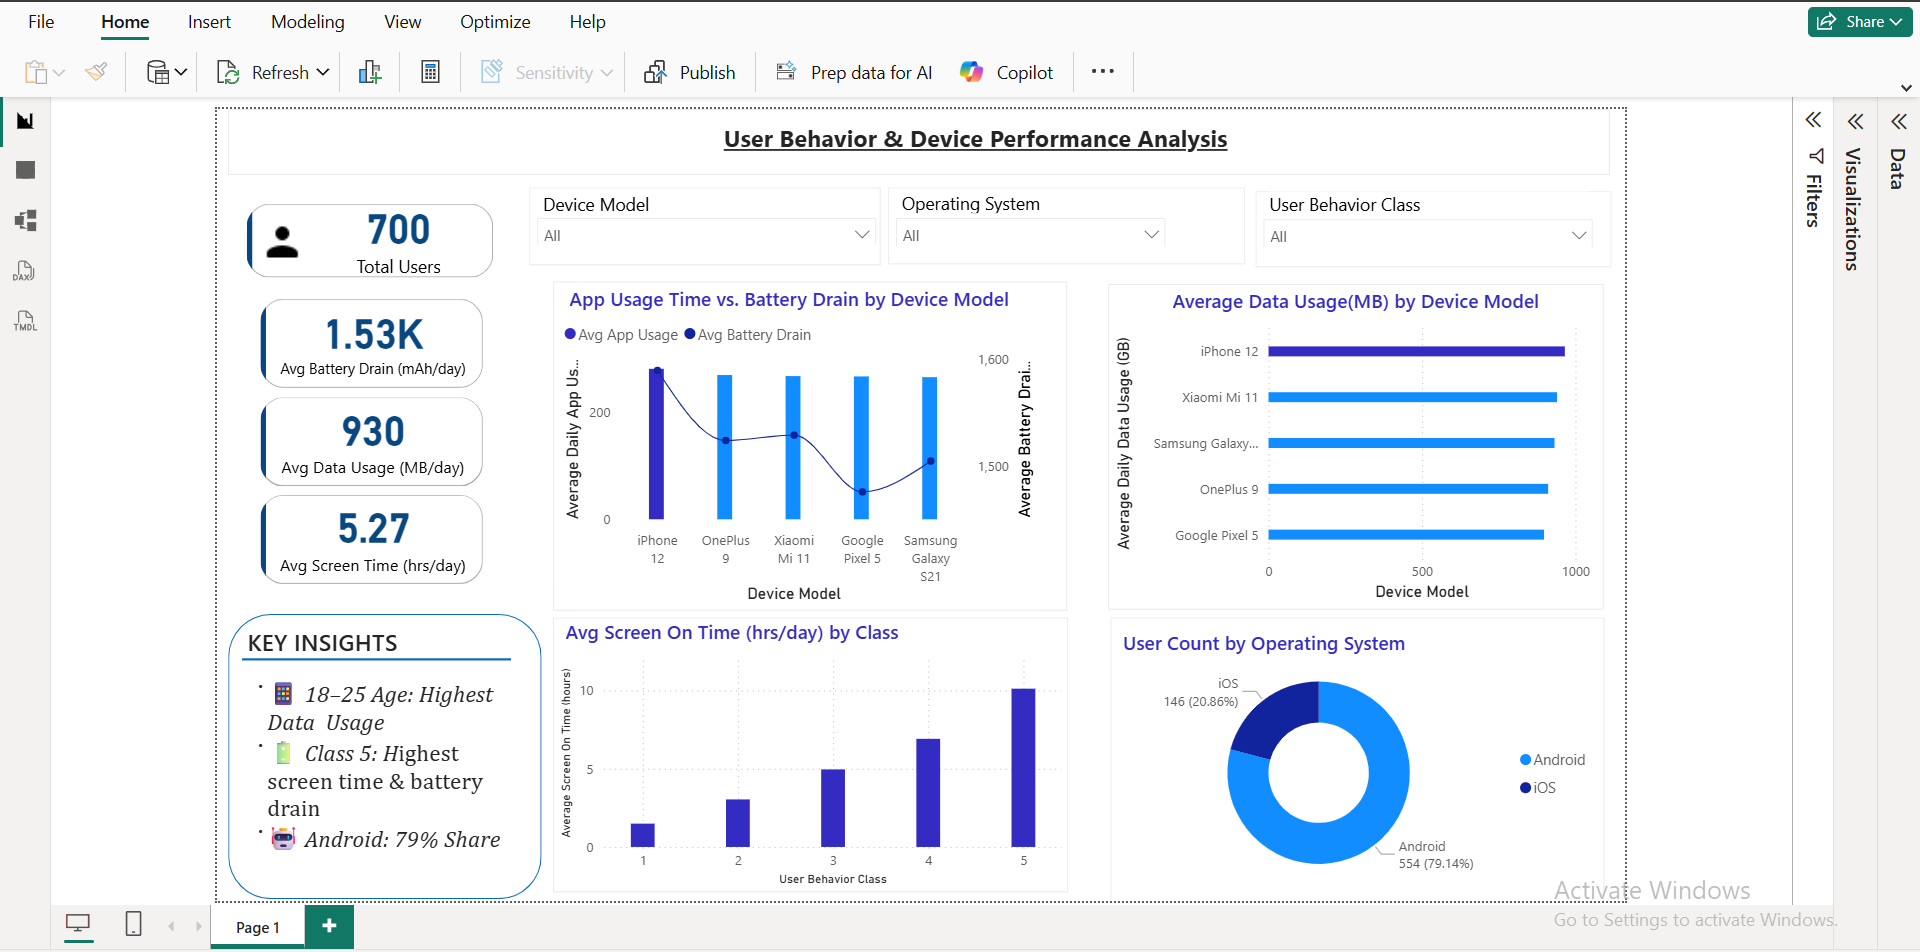

Layout of this report page (visuals, bound fields, positions):
{"tool":"powerbi","page":{"name":"Page 1","canvas":[1280,720],"ordinal":0},"visuals":[{"type":"shape","box":[10.1,0,1255.6,59.7],"z":0},{"type":"shape","box":[283.7,72.1,319.1,70],"z":0,"group":"g1"},{"type":"shape","box":[610.2,72.1,324.1,69.7],"z":0,"group":"g5"},{"type":"shape","box":[944.5,75.8,323.5,68.8],"z":0,"group":"g6"},{"type":"shape","box":[305.7,156.5,467.1,299.6],"z":0,"group":"g7"},{"type":"shape","box":[810.7,159,450,295.9],"z":0,"group":"g10"},{"type":"shape","box":[305.7,462.2,468.3,249.5],"z":0,"group":"g9"},{"type":"shape","box":[812.6,462.2,448.8,258],"z":0,"group":"g8"},{"type":"shape","title":"null","box":[611.7,74.2,254.5,21],"z":10,"group":"g2"},{"type":"shape","title":"null","box":[285.3,75.1,317.6,20],"z":10,"group":"g3"},{"type":"shape","title":"null","box":[946.9,75.5,309.1,20.9],"z":10,"group":"g4"},{"type":"slicer","fields":{"Values":["user_behavior_dataset.User Behavior Class"]},"box":[946.9,96.4,309.1,30.3],"z":502,"group":"g4"},{"type":"slicer","fields":{"Values":["user_behavior_dataset.Operating System"]},"box":[611.7,95.2,254.5,30.4],"z":552,"group":"g2"},{"type":"slicer","fields":{"Values":["user_behavior_dataset.Device Model"]},"box":[285.3,95.1,317.6,29],"z":602,"group":"g3"},{"type":"group","id":"g1","title":"Group 1","box":[283.7,72.1,319.2,69.7],"z":1000},{"type":"group","id":"g2","title":"Group 1","box":[611.1,73.2,254.5,65.8],"z":1000,"group":"g5"},{"type":"group","id":"g3","title":"Group 1","box":[284.5,74.1,317.6,65],"z":1000,"group":"g1"},{"type":"group","id":"g4","title":"Group 1","box":[946.9,75.5,309.1,51.3],"z":1000,"group":"g6"},{"type":"shape","box":[310,157.2,546,27.2],"z":1000,"group":"g7"},{"type":"shape","box":[811.8,159.9,447.8,26.9],"z":1000,"group":"g10"},{"type":"shape","box":[306.8,463,466.1,22.7],"z":1000,"group":"g9"},{"type":"shape","box":[813.3,464.4,451.2,40.4],"z":1000,"group":"g8"},{"type":"group","id":"g5","title":"Group 1","box":[610.2,72.1,324.1,69.7],"z":2000},{"type":"lineClusteredColumnComboChart","title":"Title goes here","fields":{"Y":["user_behavior_dataset.Avg App Usage"],"Category":["user_behavior_dataset.Device Model"],"Y2":["user_behavior_dataset.Avg Battery Drain"]},"box":[310.7,183.7,437.3,269.6],"z":2000,"group":"g7"},{"type":"clusteredBarChart","title":"Title goes here","fields":{"Y":["user_behavior_dataset.Avg Data Usage"],"Category":["user_behavior_dataset.Device Model"]},"box":[812.2,186.6,441.8,266.1],"z":2000,"group":"g10"},{"type":"clusteredColumnChart","title":"Title goes here","fields":{"Y":["user_behavior_dataset.Avg Screen On Time"],"Category":["user_behavior_dataset.User Behavior Class"]},"box":[306.8,485.6,466.1,224.5],"z":2000,"group":"g9"},{"type":"donutChart","title":"Title goes here","fields":{"Category":["user_behavior_dataset.Operating System"],"Y":["user_behavior_dataset.Total Users"]},"box":[815,487.9,443.9,229.9],"z":2000,"group":"g8"},{"type":"group","id":"g6","title":"Group 1","box":[944.5,75.5,323.5,68.8],"z":3000},{"type":"cardVisual","fields":{"Data":["user_behavior_dataset.Avg Battery Drain","user_behavior_dataset.Avg Data Usage","user_behavior_dataset.Avg Screen On Time"]},"box":[23.2,155.3,236,295.9],"z":4000},{"type":"group","id":"g7","title":"Group 1","box":[305.7,156.5,550.3,299.6],"z":5000},{"type":"group","id":"g8","title":"Group 1","box":[812.6,462.2,451.9,258],"z":6000},{"type":"group","id":"g9","title":"Group 1","box":[305.7,462.2,468.3,249.5],"z":7000},{"type":"group","id":"g10","title":"Group 1","box":[810.7,159,450,295.9],"z":8000},{"type":"cardVisual","fields":{"Data":["user_behavior_dataset.Total Users"]},"box":[9.8,69.7,258,101.5],"z":9000},{"type":"textbox","box":[456.1,7.3,487.9,47.7],"z":10000},{"type":"shape","box":[9.8,458.6,284.9,259.2],"z":11000},{"type":"textbox","box":[23.2,464.7,261.7,245.8],"z":12000},{"type":"shape","box":[23.2,487.9,244.6,25.7],"z":13000}]}

Visuals, with their boxes on the page's 1280x720 design canvas (x1, y1, x2, y2). These are canvas units, not pixel positions in the 1920x952 screenshot, which may show the page scaled, cropped or inside an application window:
shape: [10, 0, 1266, 60]
shape: [284, 72, 603, 142]
shape: [610, 72, 934, 142]
shape: [944, 76, 1268, 145]
shape: [306, 156, 773, 456]
shape: [811, 159, 1261, 455]
shape: [306, 462, 774, 712]
shape: [813, 462, 1261, 720]
"null" shape: [612, 74, 866, 95]
"null" shape: [285, 75, 603, 95]
"null" shape: [947, 76, 1256, 96]
slicer - user_behavior_dataset.User Behavior Class: [947, 96, 1256, 127]
slicer - user_behavior_dataset.Operating System: [612, 95, 866, 126]
slicer - user_behavior_dataset.Device Model: [285, 95, 603, 124]
"Group 1" group: [284, 72, 603, 142]
"Group 1" group: [611, 73, 866, 139]
"Group 1" group: [284, 74, 602, 139]
"Group 1" group: [947, 76, 1256, 127]
shape: [310, 157, 856, 184]
shape: [812, 160, 1260, 187]
shape: [307, 463, 773, 486]
shape: [813, 464, 1264, 505]
"Group 1" group: [610, 72, 934, 142]
"Title goes here" lineClusteredColumnComboChart: [311, 184, 748, 453]
"Title goes here" clusteredBarChart: [812, 187, 1254, 453]
"Title goes here" clusteredColumnChart: [307, 486, 773, 710]
"Title goes here" donutChart: [815, 488, 1259, 718]
"Group 1" group: [944, 76, 1268, 144]
cardVisual - user_behavior_dataset.Avg Battery Drain x user_behavior_dataset.Avg Data Usage: [23, 155, 259, 451]
"Group 1" group: [306, 156, 856, 456]
"Group 1" group: [813, 462, 1264, 720]
"Group 1" group: [306, 462, 774, 712]
"Group 1" group: [811, 159, 1261, 455]
cardVisual - user_behavior_dataset.Total Users: [10, 70, 268, 171]
textbox: [456, 7, 944, 55]
shape: [10, 459, 295, 718]
textbox: [23, 465, 285, 710]
shape: [23, 488, 268, 514]
